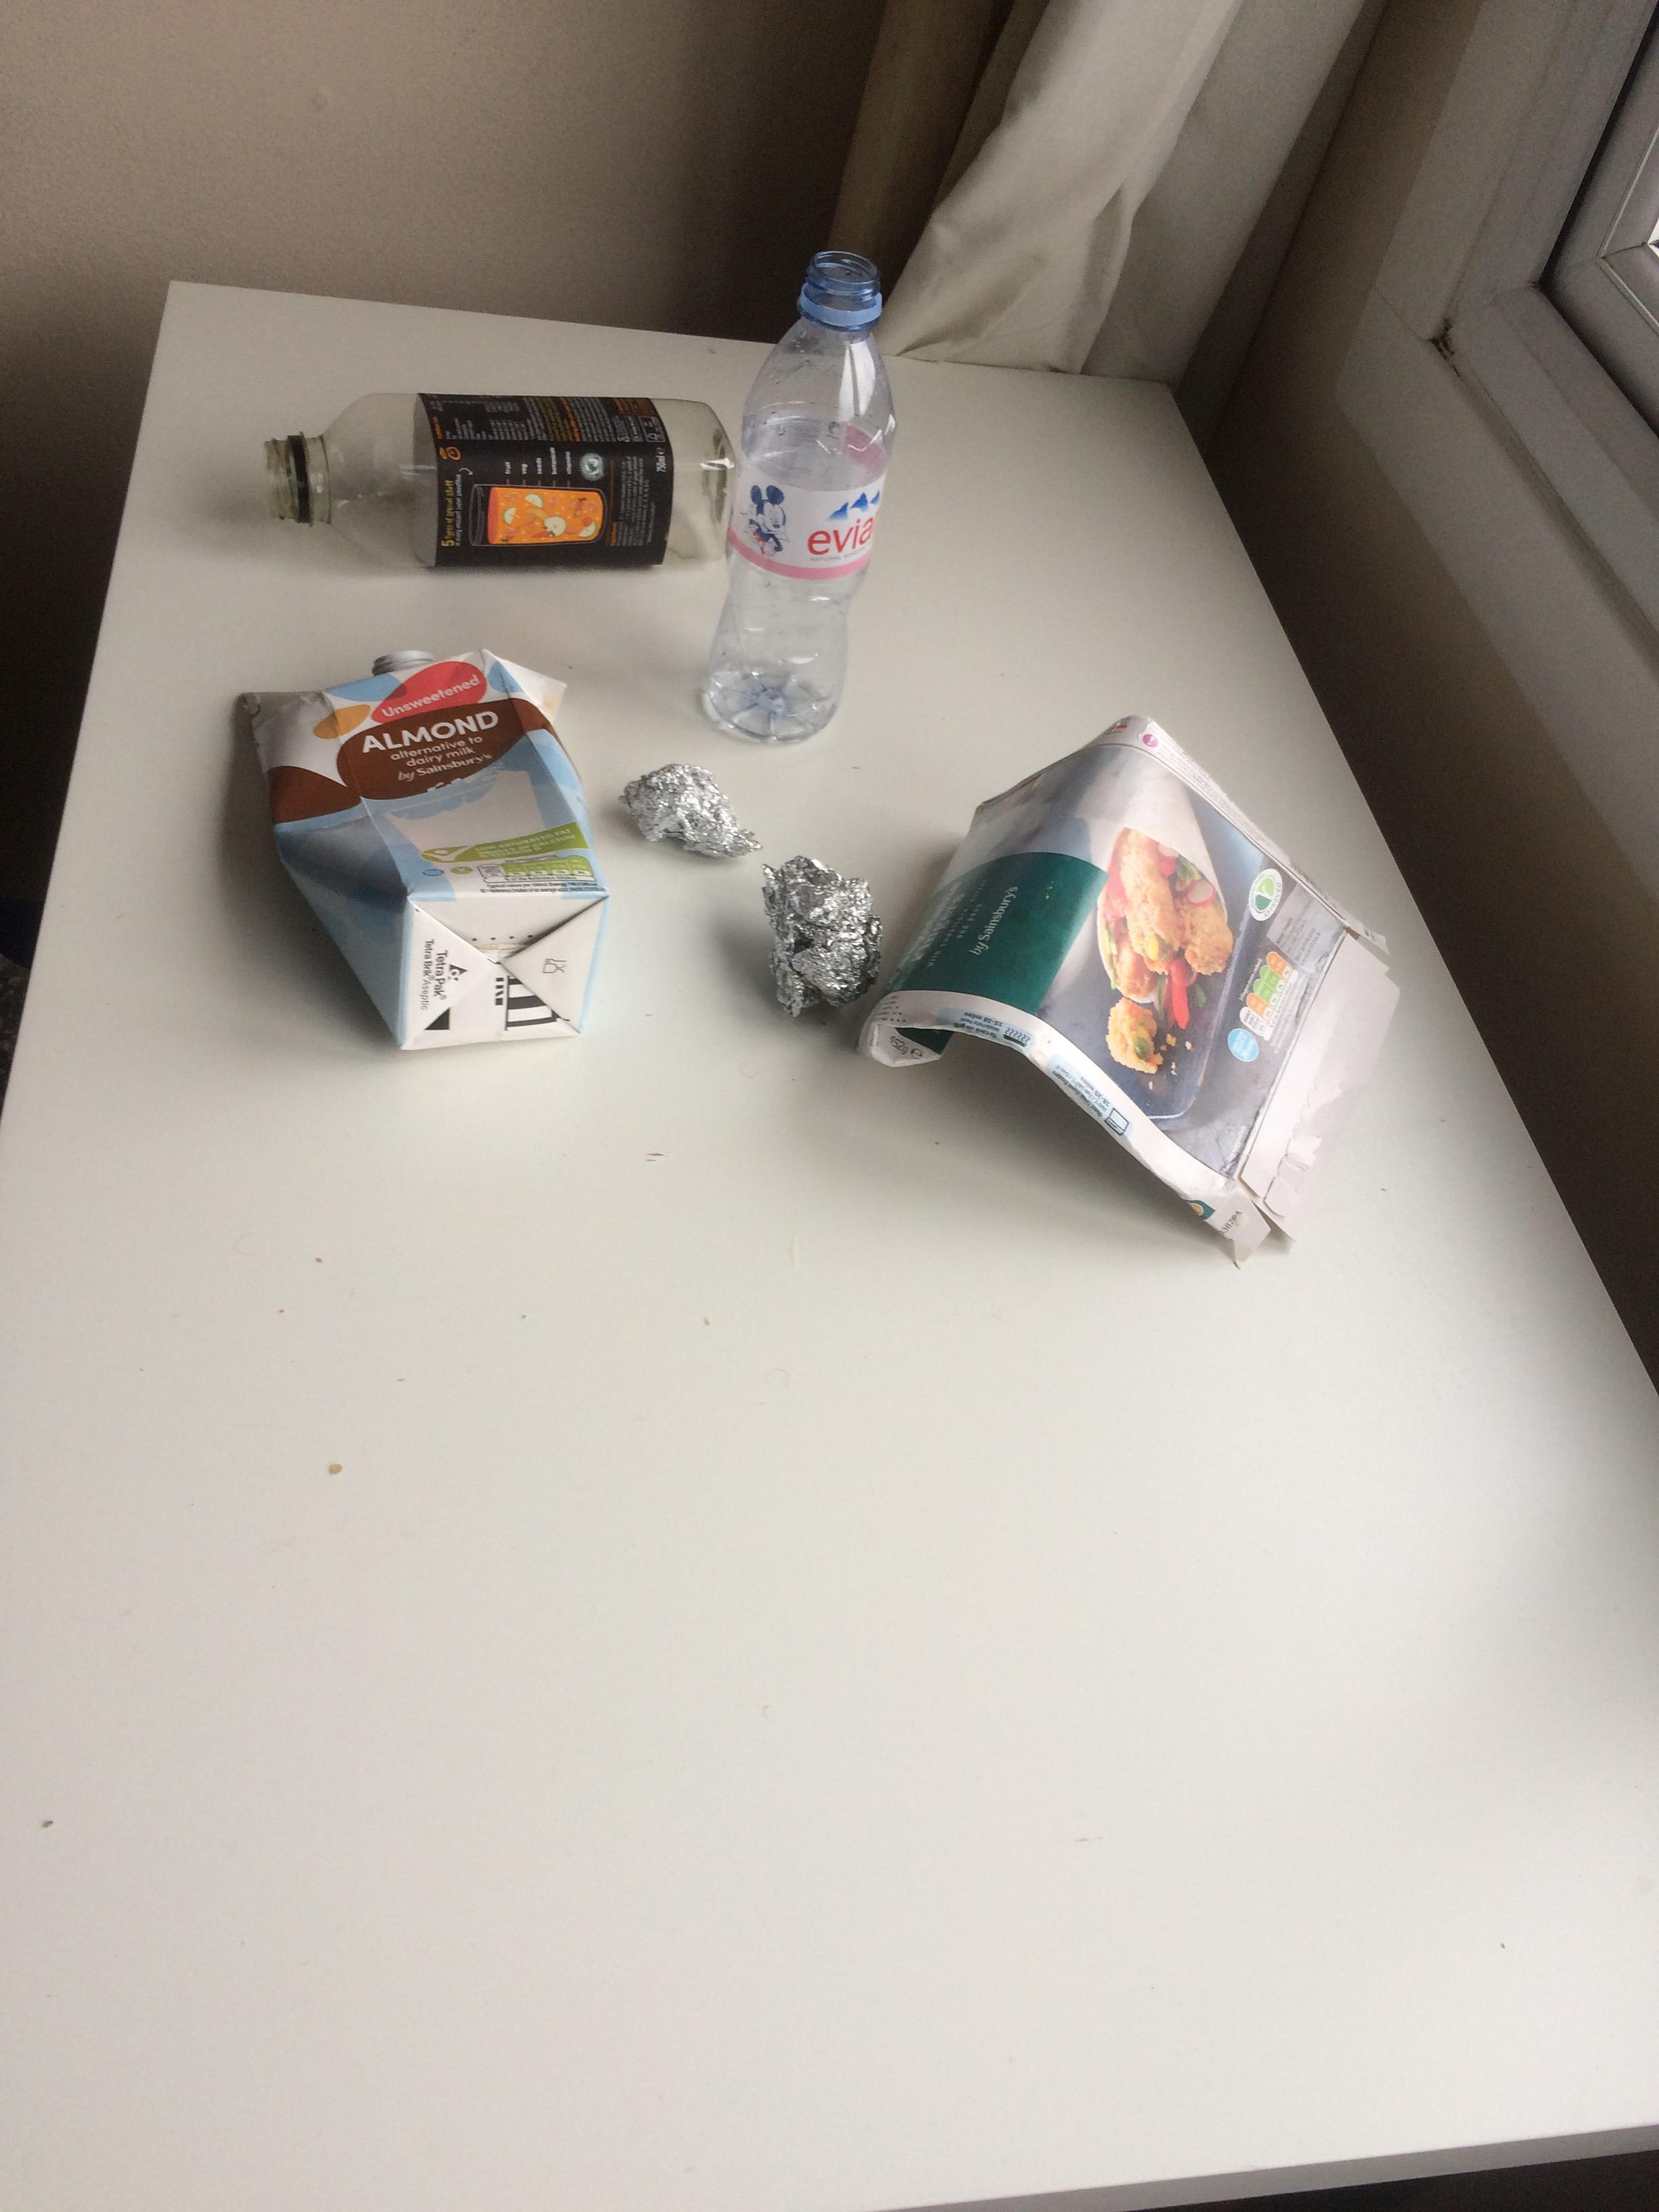Trash: (866, 718, 1403, 1277), (225, 644, 593, 1045), (692, 232, 896, 744), (265, 373, 728, 571), (762, 833, 864, 1008), (617, 745, 753, 864)
